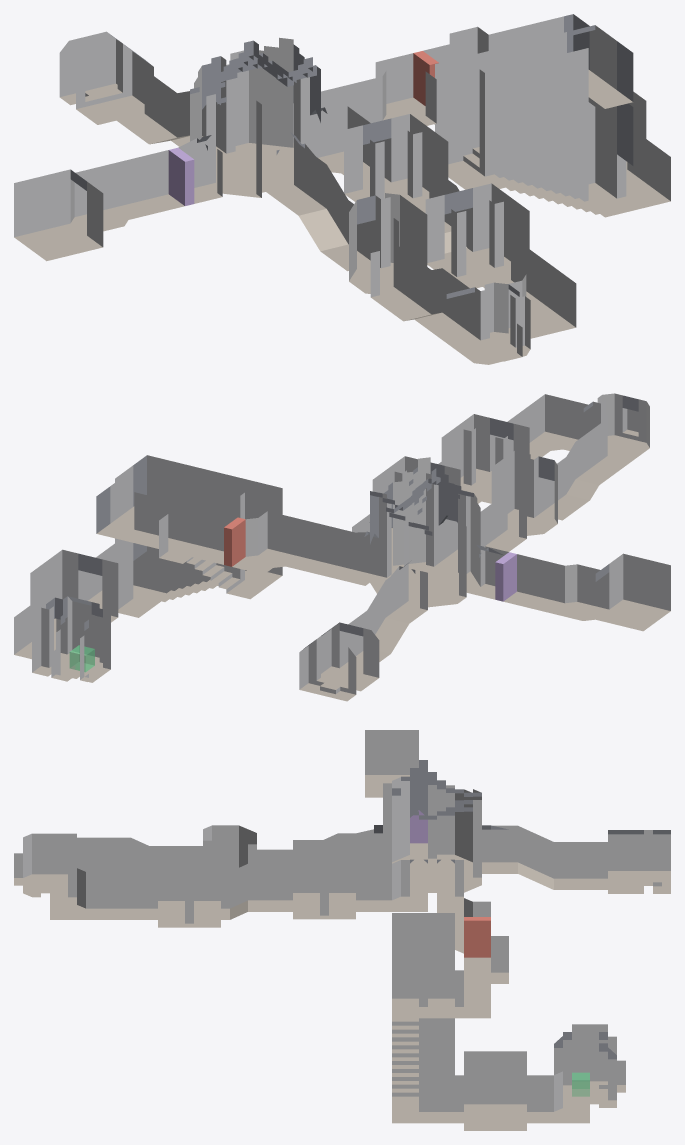
Rendered from deeplab_05.glb.
The picture shows the model from 3 angles, top to bottom: view 1: azimuth 30°, elevation 25°; view 2: azimuth 150°, elevation 25°; view 3: azimuth 270°, elevation 25°; orthographic projection. The views are drawn at different scales.
Visible parts, largest first — view 1: room:6, corridor:6, room:1, corridor:1, room:5, corridor:4, corridor:3, room:3, corridor:0, room:1/portals, room:0, corridor:5 (+10 smaller); view 2: room:6, corridor:1, corridor:6, room:1, corridor:5, corridor:4, room:5, room:2, corridor:3, room:1/portals, room:3, corridor:2 (+13 smaller); view 3: corridor:6, room:6, corridor:5, room:1, corridor:2, corridor:1, room:2, room:3, room:4, room:5, corridor:3, room:1/portals (+6 smaller).
Boxes of the visible parts, left/top/right/bottom form: room:6: left=435, top=25, right=633, bottom=217; corridor:6: left=328, top=106, right=576, bottom=338; room:1: left=190, top=37, right=320, bottom=197; corridor:1: left=293, top=14, right=595, bottom=147; room:5: left=14, top=169, right=103, bottom=261; corridor:4: left=70, top=149, right=222, bottom=235; corridor:3: left=370, top=246, right=474, bottom=343; room:3: left=59, top=31, right=153, bottom=124; corridor:0: left=288, top=157, right=375, bottom=271; room:1/portals: left=206, top=56, right=309, bottom=197; room:0: left=349, top=193, right=427, bottom=294; corridor:5: left=617, top=91, right=670, bottom=210; room:6: left=115, top=455, right=282, bottom=617; corridor:1: left=96, top=483, right=369, bottom=585; corridor:6: left=352, top=394, right=592, bottom=565; room:1: left=370, top=457, right=480, bottom=608; corridor:5: left=14, top=543, right=146, bottom=659; corridor:4: left=480, top=546, right=609, bottom=620; room:5: left=595, top=553, right=670, bottom=631; room:2: left=32, top=596, right=110, bottom=682; corridor:3: left=538, top=422, right=626, bottom=520; room:1/portals: left=379, top=473, right=470, bottom=603; room:3: left=299, top=622, right=379, bottom=701; corridor:2: left=339, top=571, right=427, bottom=673; corridor:6: left=50, top=840, right=427, bottom=927; room:6: left=392, top=913, right=454, bottom=1107; corridor:5: left=392, top=1051, right=589, bottom=1130; room:1: left=392, top=777, right=481, bottom=896; corridor:2: left=482, top=825, right=607, bottom=889; corridor:1: left=437, top=860, right=508, bottom=1018; room:2: left=554, top=1024, right=616, bottom=1107; room:3: left=608, top=834, right=670, bottom=893; room:4: left=23, top=833, right=76, bottom=897; room:5: left=365, top=730, right=418, bottom=797; corridor:3: left=77, top=837, right=202, bottom=871; room:1/portals: left=383, top=783, right=481, bottom=877.
Bounding box in the file's own units: 70 × 24.5 × 73.
